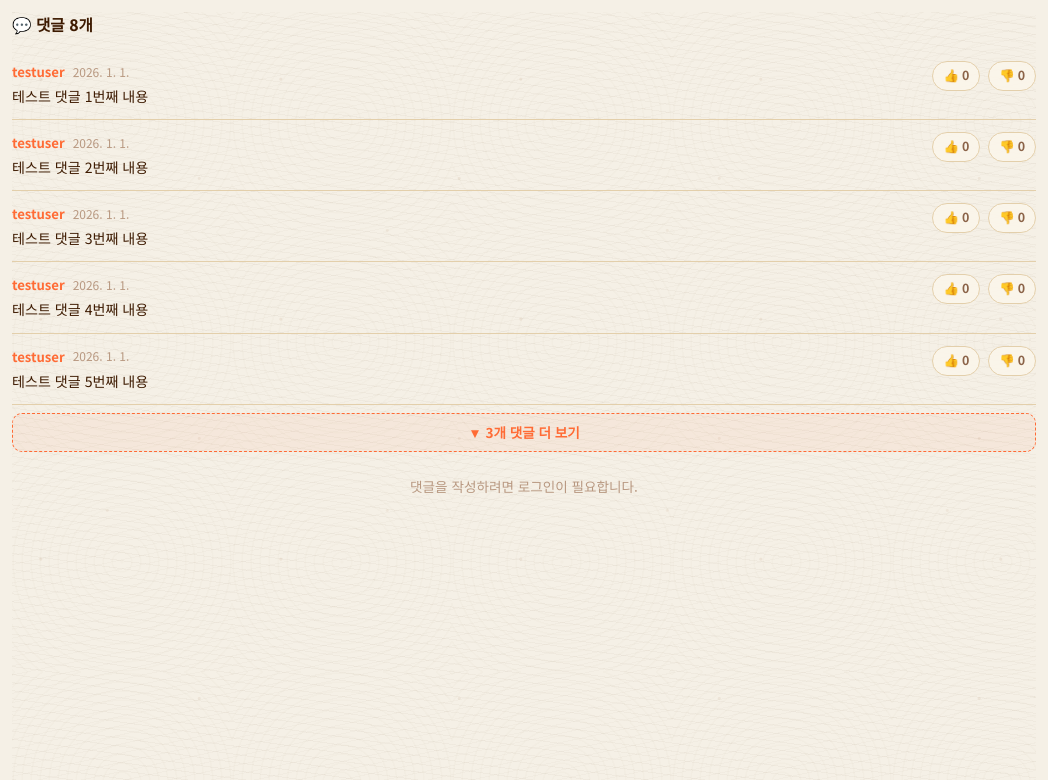
Test: RecommendationCommentSection › 댓글 접기/펼치기 › 펼친 후 '접기' 클릭 시 5개로 돌아온다
Click the button "▼ 3개 댓글 더 보기". click: (524, 432)
box: [12, 413, 1036, 452]
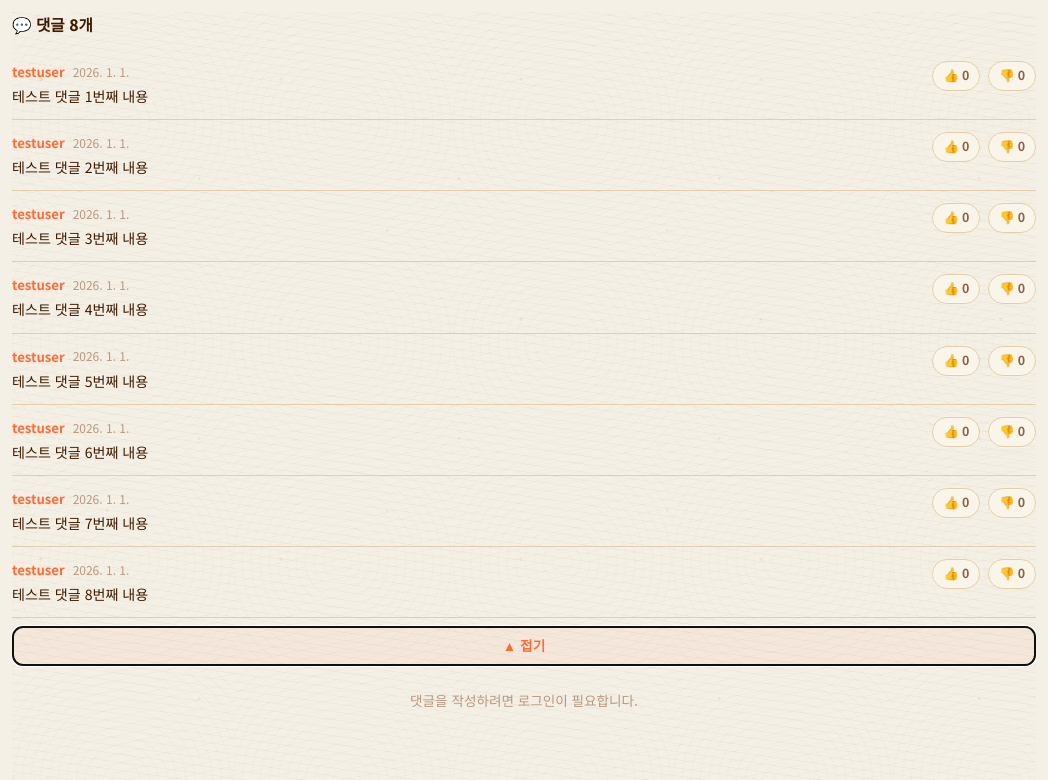
Result: the text "테스트 댓글 1번째 내용" is shown 8 times
//  Act: 접기
Click the button "▲ 접기". click: (524, 646)
box: [12, 626, 1036, 666]
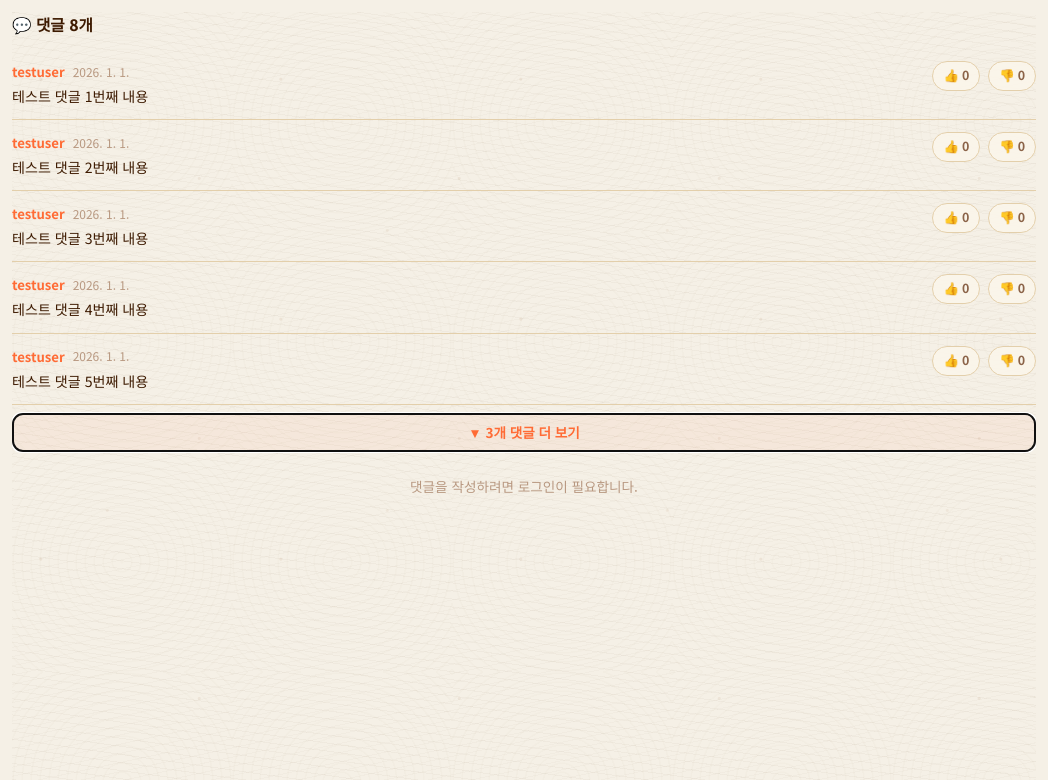
Result: the text "테스트 댓글 1번째 내용" is shown 5 times at [12, 86, 148, 106]; [12, 157, 148, 177]; [12, 228, 148, 248]; [12, 299, 148, 319]; [12, 370, 148, 390]
